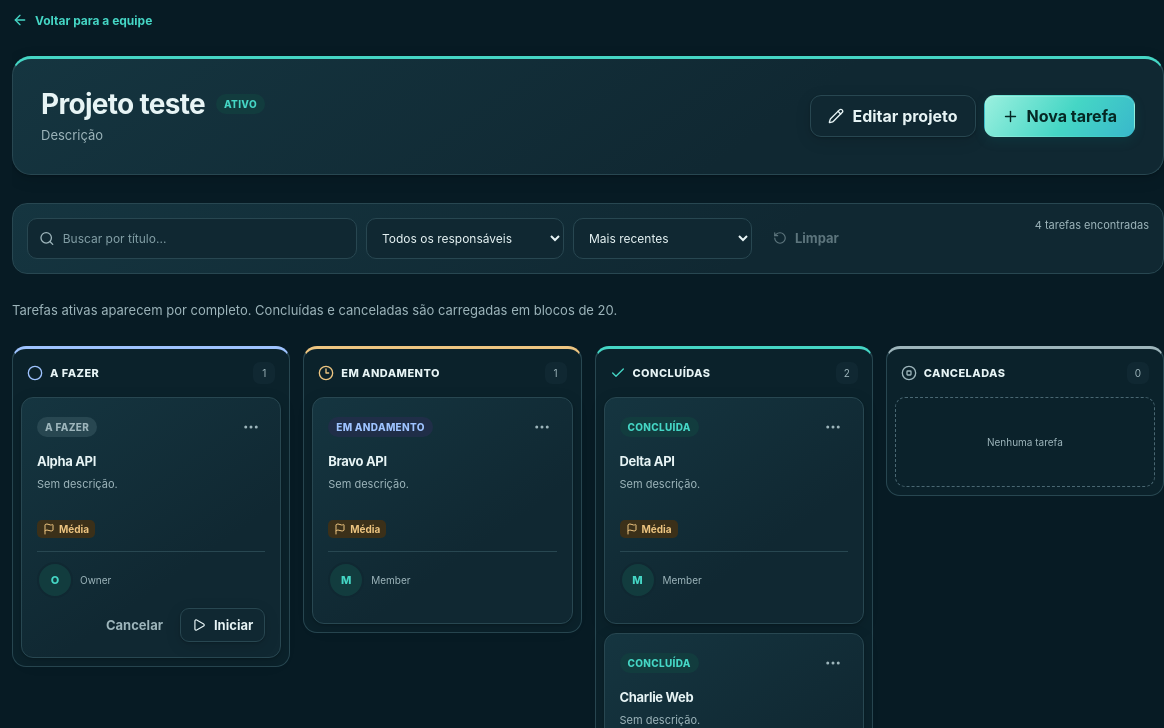
Test case: ProjectPage task queries › envia busca e responsável ao backend e combina os filtros
Expected: the heading "Alpha API" is shown, [37,452,96,468]
Type "api" into the field named "Buscar tarefas por título" at coordinates (204, 238), box [63,218,345,258]
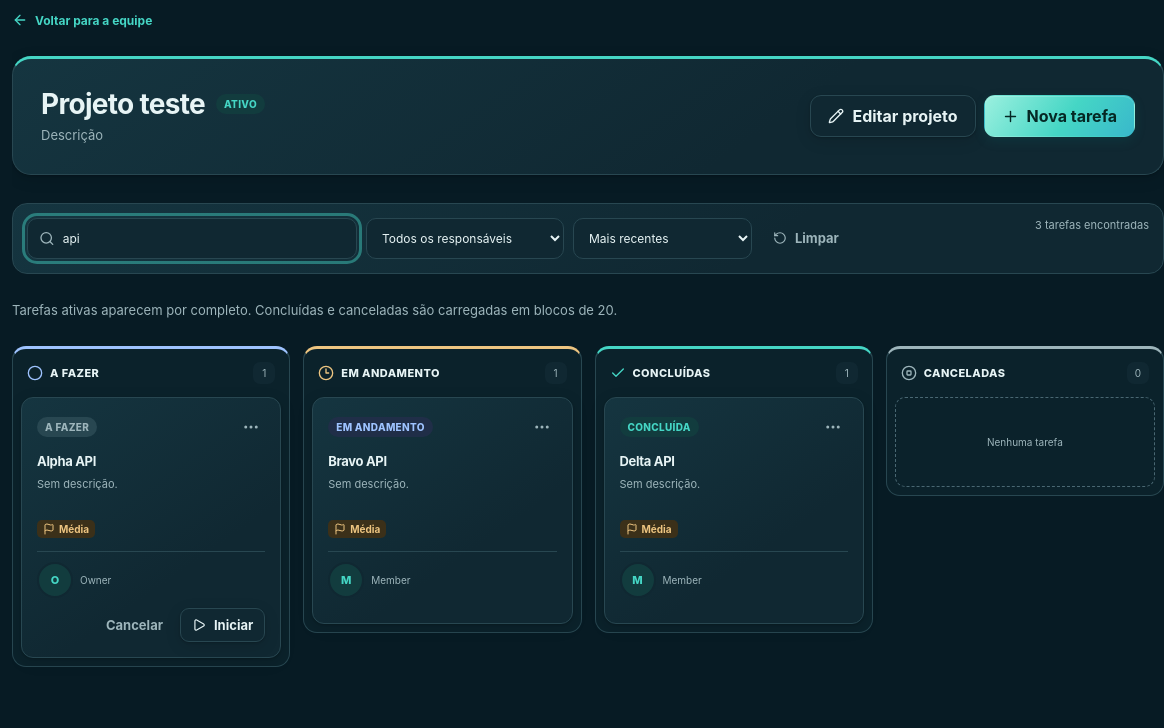
Select "Member" in the dropdown named "Filtrar por responsável" at coordinates (465, 238), box [366,218,564,258]
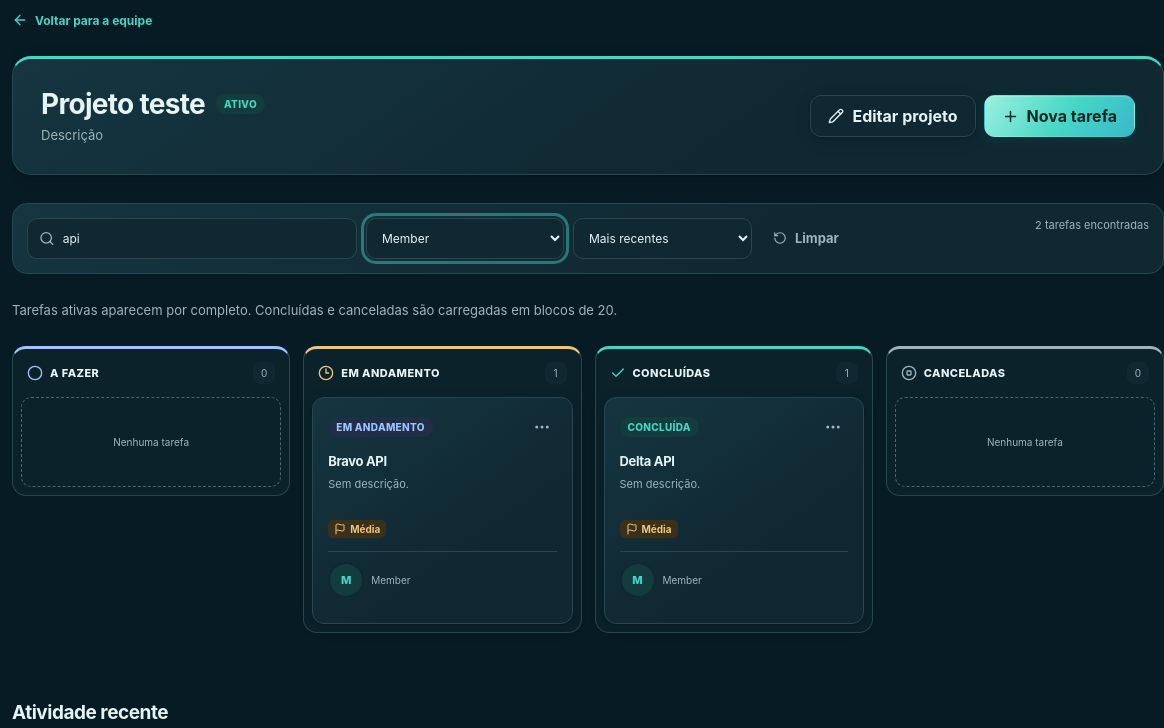
Expected: the heading "Bravo API" is shown, [328,452,387,468]
Expected: the text "2 tarefas encontradas" is shown, [1035,218,1149,232]
Expected: the heading "Alpha API" is gone
